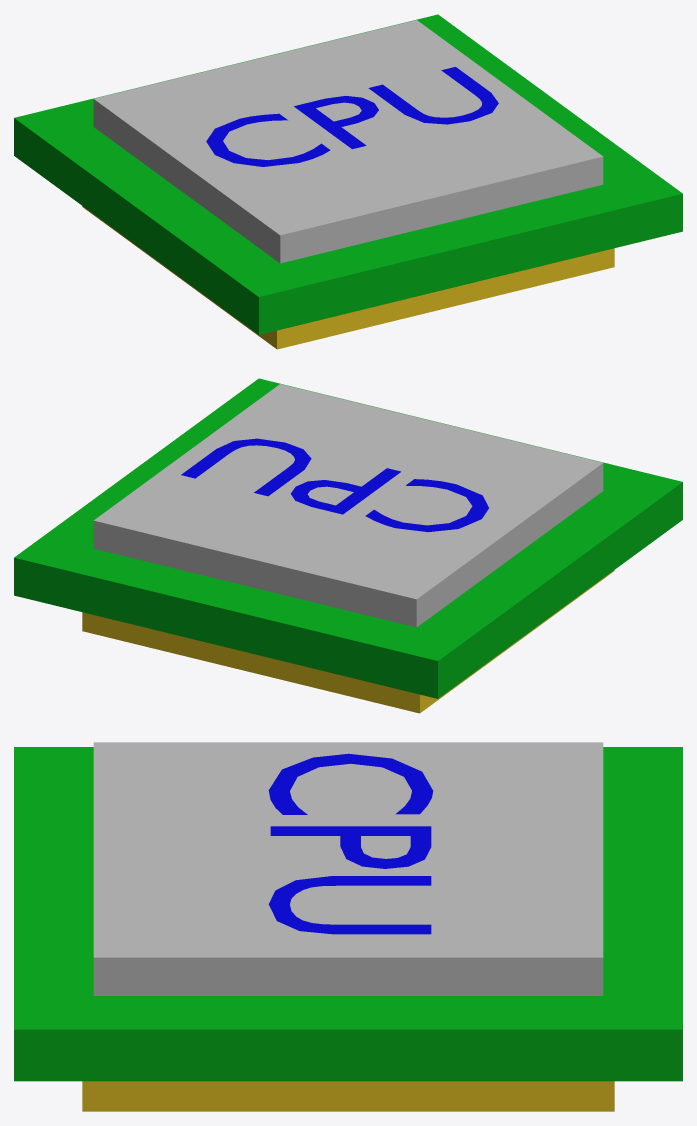
Rendered from cpu.fbx.
The picture shows the model from 3 angles, top to bottom: view 1: azimuth 30°, elevation 25°; view 2: azimuth 150°, elevation 25°; view 3: azimuth 270°, elevation 25°; orthographic projection. The views are drawn at different scales.
Visible parts, largest first — view 1: Cube.003, Cube, Cube.002, Text; view 2: Cube.003, Cube, Cube.002, Text; view 3: Cube.003, Cube, Cube.002, Text.
Boxes of the visible parts, x1,y1,x2,y2 form: Cube.003: [93, 20, 603, 263]; Cube: [14, 14, 682, 334]; Cube.002: [82, 206, 614, 349]; Text: [206, 67, 498, 166]; Cube.003: [93, 384, 603, 627]; Cube: [14, 378, 682, 698]; Cube.002: [82, 570, 614, 713]; Text: [181, 438, 488, 532]; Cube.003: [93, 742, 603, 995]; Cube: [14, 747, 682, 1081]; Cube.002: [82, 1081, 614, 1111]; Text: [268, 753, 433, 934].
Size of the model in its own units: 92.76 by 23.94 by 92.76.
